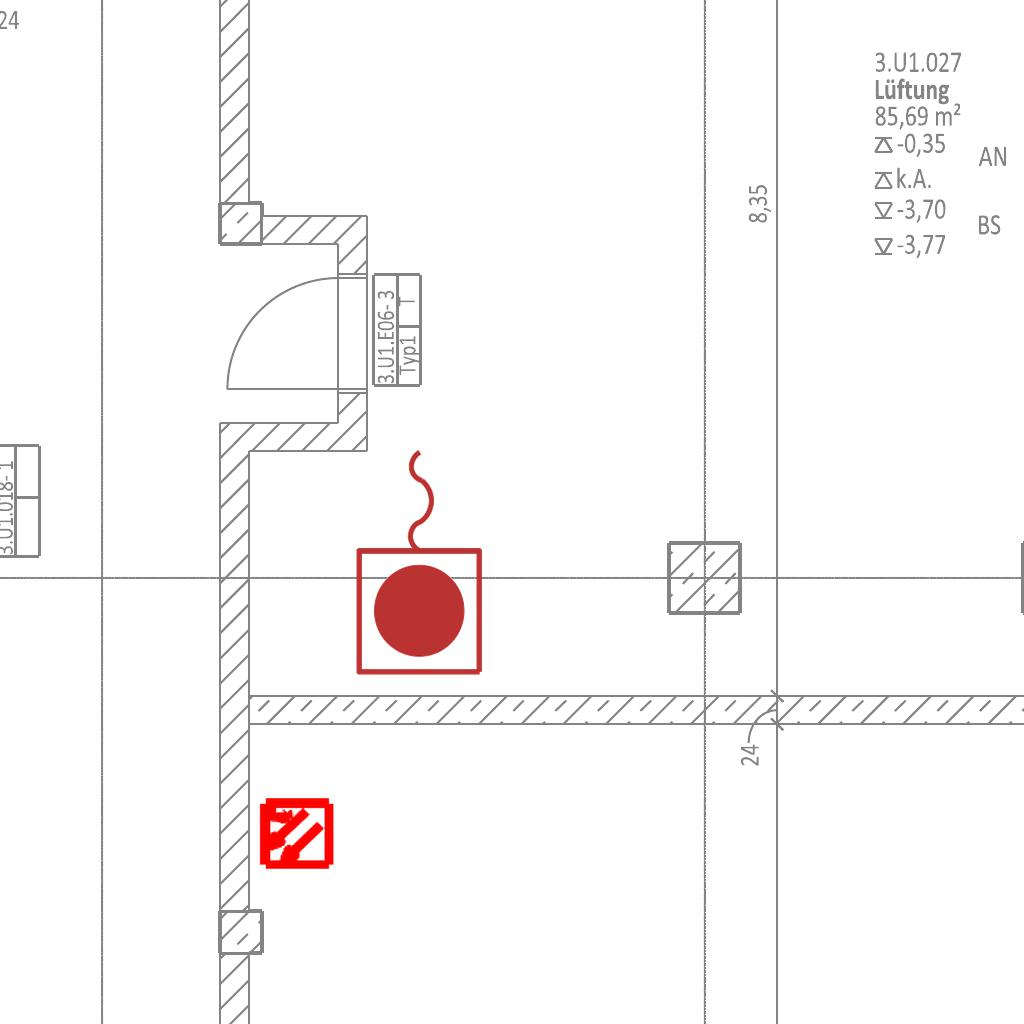OT_Multisensormelder_(Kombination_RMO_WMD): (238, 777, 351, 890)
Zugtaster: (349, 439, 493, 683)
